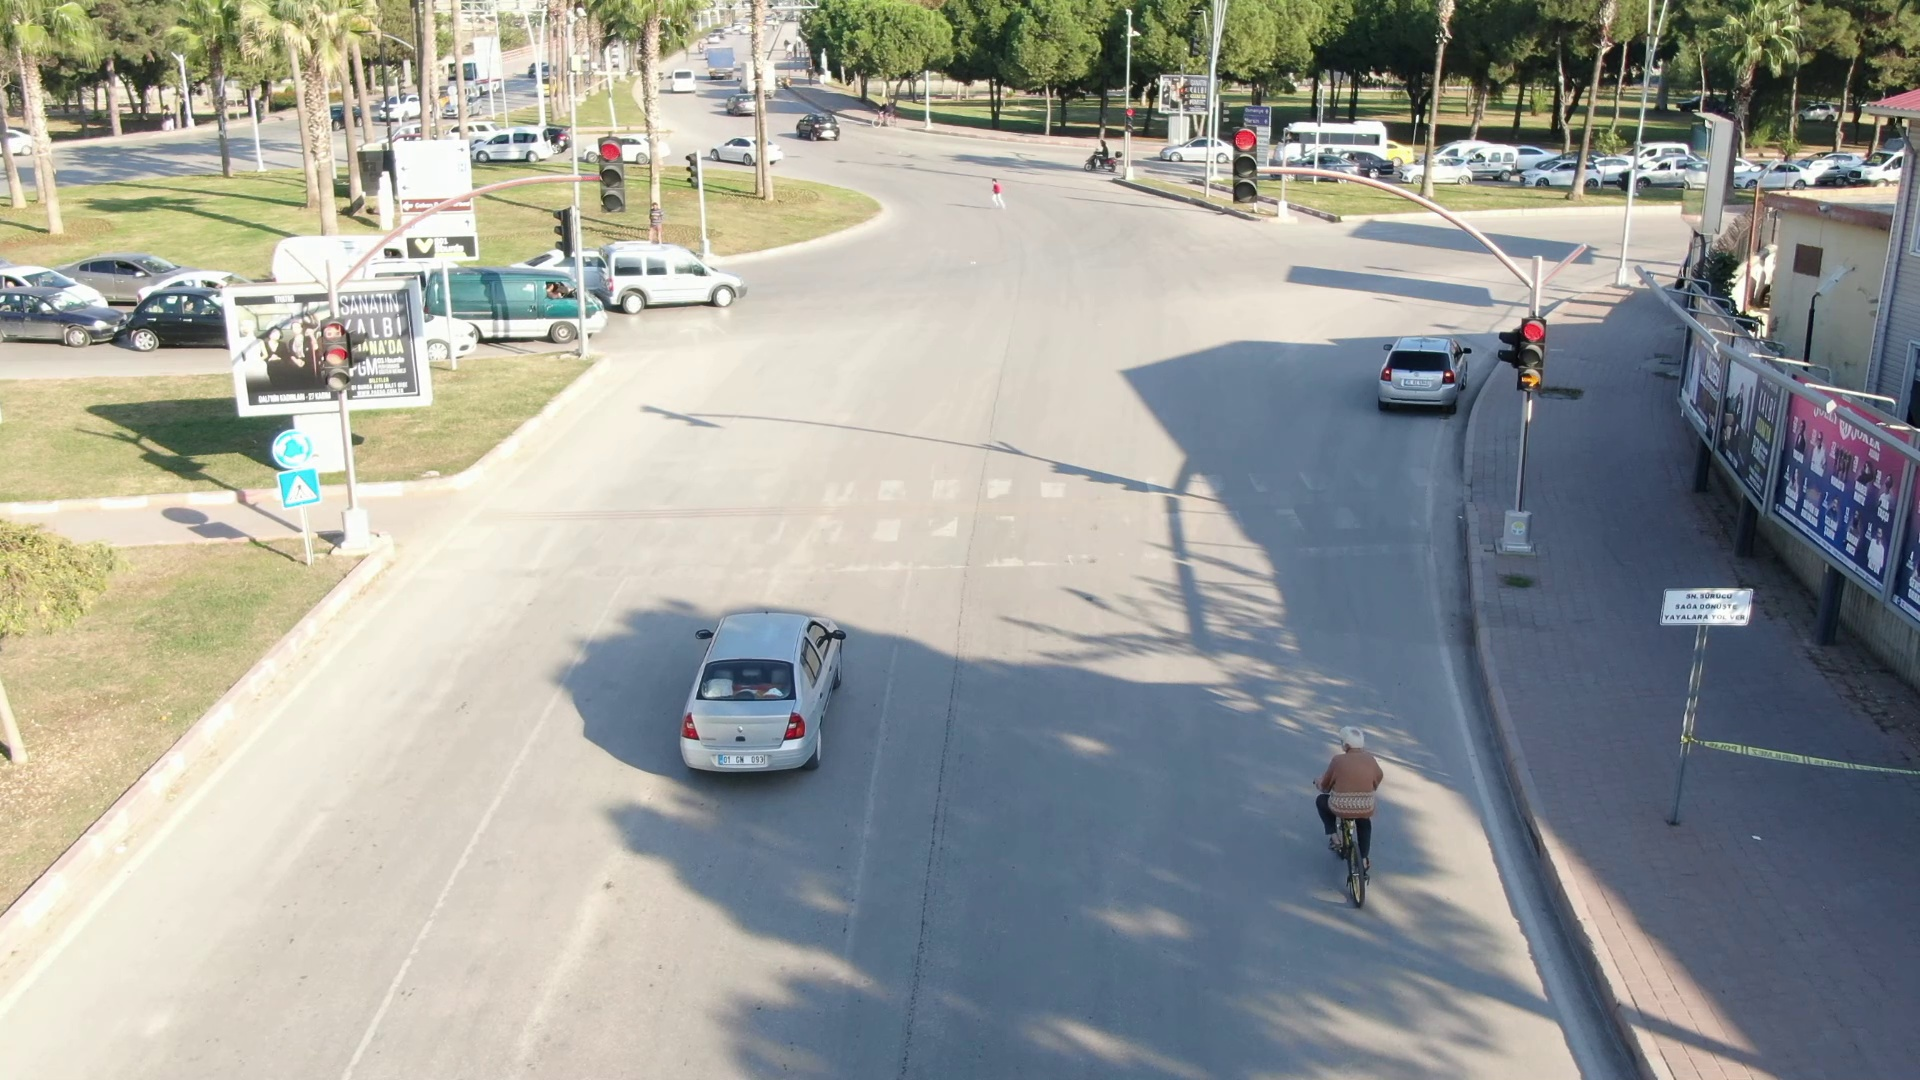car: (627, 565, 904, 830), (412, 254, 614, 357), (592, 229, 771, 342), (1350, 314, 1501, 438), (784, 106, 854, 153)
person: (1299, 708, 1401, 824)
